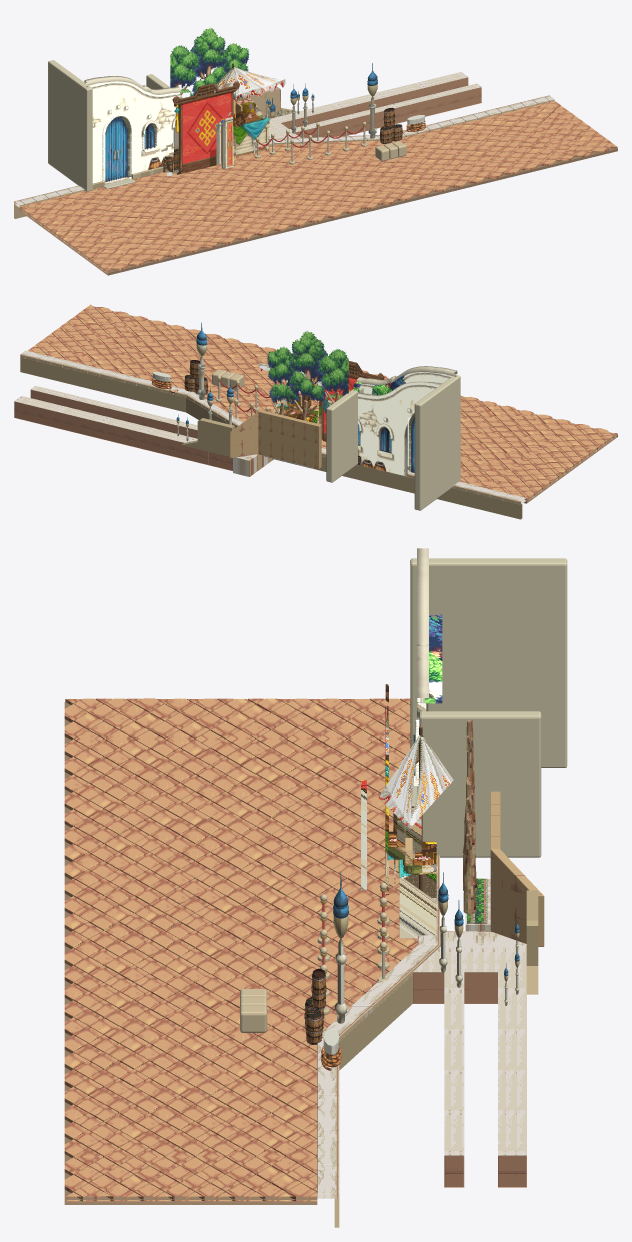
File: west_coast_port.glb
3 renders of one model, top to bottom at view 1: azimuth 30°, elevation 25°; view 2: azimuth 150°, elevation 25°; view 3: azimuth 270°, elevation 25°, orthographic. The views are drawn at different scales.
Visible parts, largest first — view 1: Terracotta_Diamond_Paving, Curved_Plaster_Facade, Facade_Left_Return, Overscan_Left_Terracotta_Diamond_Paving, Pier_Middle_Slab, Grove_Source_Canopy, Pier_Far_Slab, Stall_Screen_Cloth_Inset, Overscan_Right_Terracotta_Diamond_Paving, Stall_Carved_Screen_Frame, Mortar_Bed_Shore_Polygon, Stall_Canopy (+5 smaller); view 2: Terracotta_Diamond_Paving, Curved_Plaster_Facade, Facade_Left_Return, Pier_Far_Slab, Grove_Source_Canopy, Overscan_Left_Terracotta_Diamond_Paving, Grove_Boundary_Wall_Front, Overscan_Right_Terracotta_Diamond_Paving, Facade_Right_Return, Pier_Middle_Slab, Quay_Retaining_Wall_Front, Quay_Retaining_Wall_Left (+11 smaller); view 3: Terracotta_Diamond_Paving, Facade_Left_Return, Facade_Right_Return, Overscan_Left_Terracotta_Diamond_Paving, Overscan_Right_Terracotta_Diamond_Paving, Pier_Far_Slab, Pier_Middle_Slab, Pier_Connecting_Spine, Stall_Canopy, Grove_Boundary_Wall_Return, Stall_Counter, Quay_Retaining_Wall_Diagonal (+5 smaller).
Boxes of the visible parts, box(x1,y1,x2,y2) form: Terracotta_Diamond_Paving: box(61, 111, 574, 261); Curved_Plaster_Facade: box(86, 81, 180, 183); Facade_Left_Return: box(48, 60, 92, 191); Overscan_Left_Terracotta_Diamond_Paving: box(19, 197, 146, 273); Pier_Middle_Slab: box(289, 83, 481, 137); Grove_Source_Canopy: box(170, 28, 249, 97); Pier_Far_Slab: box(274, 72, 468, 129); Stall_Screen_Cloth_Inset: box(179, 93, 231, 164); Overscan_Right_Terracotta_Diamond_Paving: box(514, 101, 617, 157); Stall_Carved_Screen_Frame: box(172, 80, 239, 174); Mortar_Bed_Shore_Polygon: box(147, 157, 576, 265); Stall_Canopy: box(216, 67, 280, 95); Terracotta_Diamond_Paving: box(70, 316, 572, 487); Curved_Plaster_Facade: box(353, 372, 456, 476); Facade_Left_Return: box(414, 375, 460, 510); Pier_Far_Slab: box(14, 396, 208, 464); Grove_Source_Canopy: box(267, 330, 348, 412); Overscan_Left_Terracotta_Diamond_Paving: box(486, 424, 617, 501); Grove_Boundary_Wall_Front: box(258, 410, 321, 468); Overscan_Right_Terracotta_Diamond_Paving: box(28, 304, 130, 360); Facade_Right_Return: box(326, 386, 363, 482); Pier_Middle_Slab: box(30, 386, 197, 438); Quay_Retaining_Wall_Front: box(62, 367, 185, 412); Quay_Retaining_Wall_Left: box(274, 456, 478, 508); Terracotta_Diamond_Paving: box(64, 738, 417, 1157); Facade_Left_Return: box(410, 558, 567, 767); Facade_Right_Return: box(419, 711, 541, 857); Overscan_Left_Terracotta_Diamond_Paving: box(64, 698, 410, 740); Overscan_Right_Terracotta_Diamond_Paving: box(64, 1156, 317, 1201); Pier_Far_Slab: box(498, 972, 526, 1187); Pier_Middle_Slab: box(444, 972, 464, 1187); Pier_Connecting_Spine: box(413, 947, 526, 1003); Stall_Canopy: box(378, 734, 453, 828); Grove_Boundary_Wall_Return: box(490, 849, 544, 946); Stall_Counter: box(399, 841, 436, 938); Quay_Retaining_Wall_Diagonal: box(339, 975, 412, 1070).
Size of the model in its own units: 20.27 by 5.23 by 8.65.
Materials: 39 (27 with a texture image).
